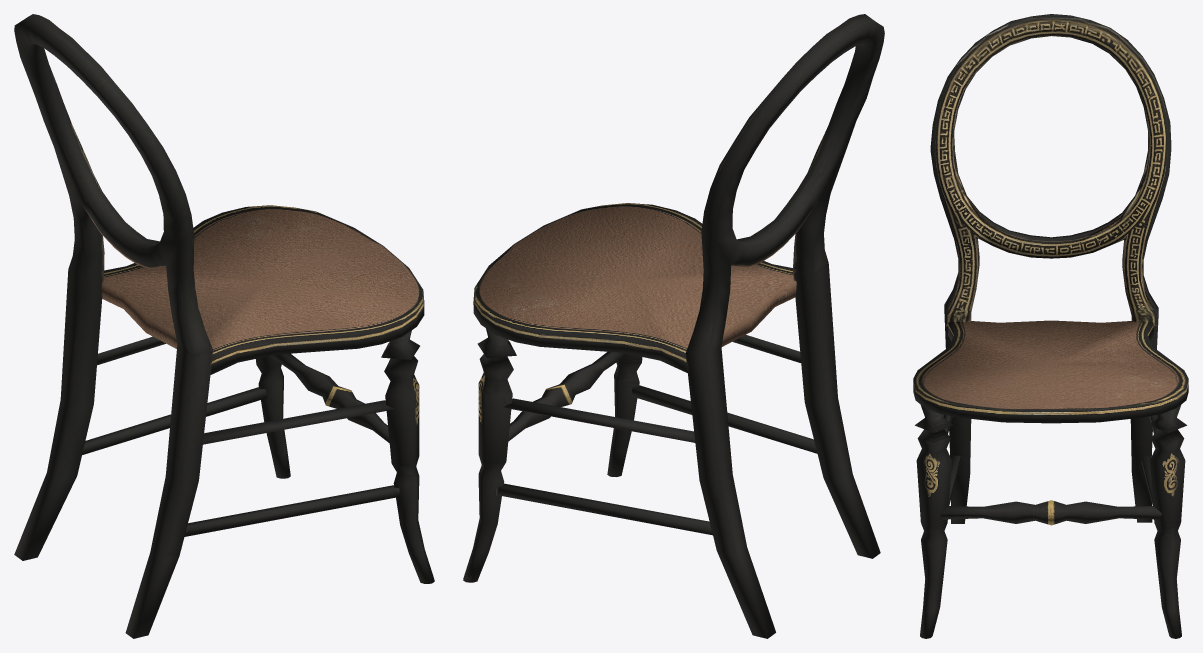
The model's file is antique+chair+3d+model.glb.
3 views of the same model, side by side, from view 1: azimuth 30°, elevation 25°; view 2: azimuth 150°, elevation 25°; view 3: azimuth 270°, elevation 25° (orthographic). The views are drawn at different scales.
Visible parts, largest first — view 1: tripo_node_e22bd30a-e3d4-445b-be46-b829adc8e716; view 2: tripo_node_e22bd30a-e3d4-445b-be46-b829adc8e716; view 3: tripo_node_e22bd30a-e3d4-445b-be46-b829adc8e716.
Boxes of the visible parts, left/top/right/bottom form: tripo_node_e22bd30a-e3d4-445b-be46-b829adc8e716: left=14, top=14, right=434, bottom=638; tripo_node_e22bd30a-e3d4-445b-be46-b829adc8e716: left=463, top=14, right=884, bottom=638; tripo_node_e22bd30a-e3d4-445b-be46-b829adc8e716: left=913, top=14, right=1188, bottom=638.
Size of the model in its own units: 0.6191 by 0.998 by 0.502.
Materials: 1 (1 with a texture image).
